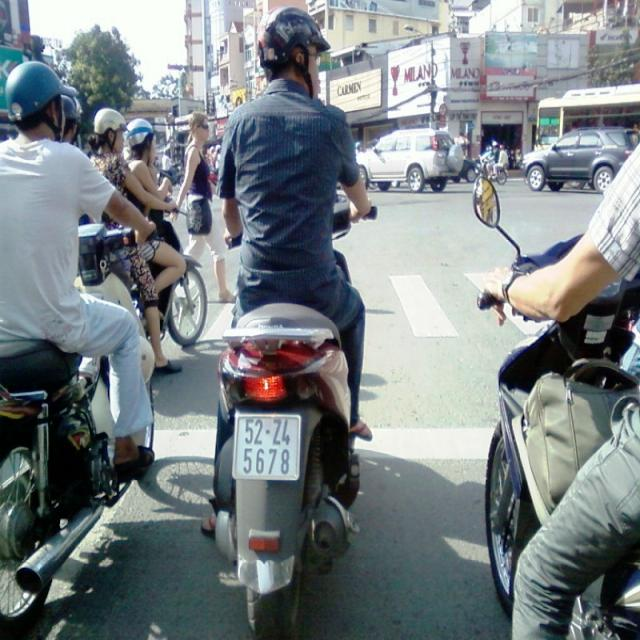license_plate: (234, 416, 300, 479)
